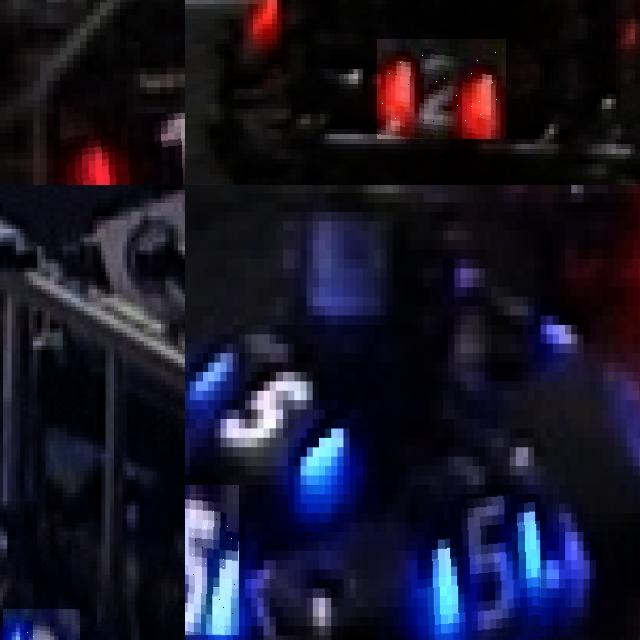B2: (3, 609, 80, 640)
B5: (417, 494, 540, 640), (185, 484, 238, 635)
R1: (66, 113, 185, 185)
R2: (377, 39, 506, 139)
